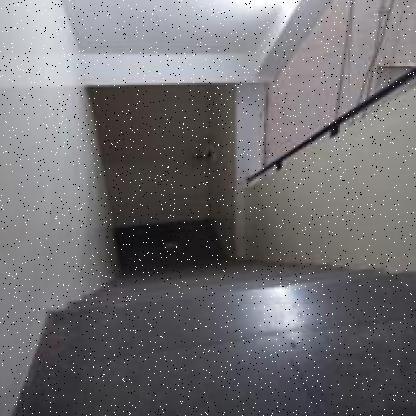stair_down: (110, 247, 351, 335)
